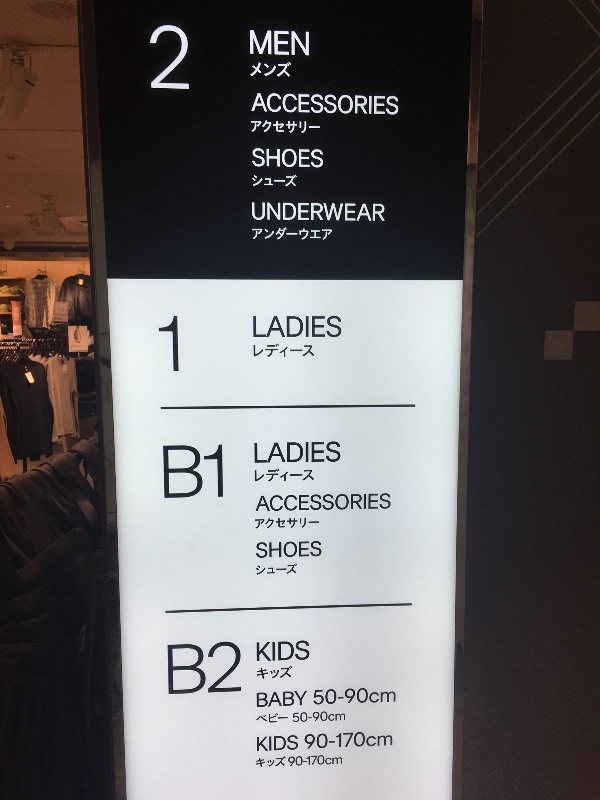text: (161, 25, 176, 91), (177, 25, 190, 91), (161, 316, 176, 373), (225, 643, 241, 696), (177, 445, 192, 499), (193, 445, 208, 499), (209, 445, 224, 499), (177, 643, 192, 696), (193, 643, 208, 696), (209, 643, 224, 696), (163, 445, 176, 499), (150, 25, 160, 91), (168, 643, 176, 696), (257, 30, 272, 56), (273, 30, 288, 56), (289, 30, 304, 56), (273, 93, 288, 116), (289, 93, 304, 116), (305, 93, 320, 116), (321, 93, 336, 116), (337, 93, 352, 116), (353, 93, 368, 116), (369, 93, 384, 116), (257, 640, 272, 663), (273, 640, 288, 663), (289, 640, 304, 663), (257, 316, 272, 338), (273, 316, 288, 338), (289, 316, 304, 338), (305, 316, 320, 338), (321, 316, 336, 338), (257, 442, 272, 464), (273, 442, 288, 464), (289, 442, 304, 464), (305, 442, 320, 464), (321, 442, 336, 464), (258, 93, 272, 116), (385, 93, 399, 116), (257, 147, 272, 168), (273, 147, 288, 168), (289, 147, 304, 168), (305, 147, 320, 168), (369, 203, 385, 222), (257, 203, 272, 222), (273, 203, 288, 222), (289, 203, 304, 222), (305, 203, 320, 222), (321, 203, 336, 222), (337, 203, 352, 222), (353, 203, 368, 222), (273, 493, 288, 512), (289, 493, 304, 512), (305, 493, 320, 512), (321, 493, 336, 512), (337, 493, 352, 512), (353, 493, 368, 512), (369, 493, 384, 512), (321, 687, 336, 706), (337, 687, 352, 706), (353, 687, 368, 706), (369, 687, 384, 706), (257, 541, 272, 559), (273, 541, 288, 559), (289, 541, 304, 559), (305, 541, 320, 559), (305, 731, 320, 749), (321, 731, 336, 749), (337, 731, 352, 749), (353, 731, 368, 749), (369, 731, 384, 749), (257, 691, 272, 708), (273, 691, 288, 708), (289, 691, 304, 708), (257, 735, 272, 752), (273, 735, 288, 752), (257, 62, 272, 78), (273, 62, 288, 78), (305, 120, 321, 134), (257, 120, 272, 134), (273, 120, 288, 134), (289, 120, 304, 134), (257, 666, 272, 680), (273, 666, 288, 680), (257, 468, 272, 482), (273, 468, 288, 482), (289, 468, 304, 482), (385, 687, 396, 706), (257, 227, 272, 240), (273, 227, 288, 240), (289, 227, 304, 240), (305, 227, 320, 240), (257, 175, 272, 188), (273, 175, 288, 188), (305, 710, 320, 723), (321, 710, 336, 723), (257, 344, 272, 357), (273, 344, 288, 357), (289, 344, 304, 357), (262, 493, 272, 512), (257, 757, 272, 769), (289, 755, 304, 767), (305, 755, 320, 767), (321, 755, 336, 767), (257, 713, 272, 725), (273, 713, 288, 725), (257, 517, 272, 529), (273, 517, 288, 529), (289, 517, 304, 529), (305, 517, 320, 529), (177, 316, 180, 373), (257, 564, 272, 575), (273, 564, 288, 575), (250, 30, 256, 56), (321, 227, 333, 240), (273, 757, 286, 769), (289, 735, 298, 752), (385, 731, 393, 749), (293, 710, 304, 723), (305, 344, 315, 357), (305, 468, 314, 482), (305, 640, 310, 663), (385, 493, 391, 512), (314, 687, 320, 706), (337, 316, 342, 338), (305, 30, 309, 56), (289, 175, 297, 188), (337, 710, 345, 723), (289, 564, 298, 575), (337, 442, 341, 464), (251, 62, 256, 78), (252, 203, 256, 222), (251, 120, 256, 134), (253, 147, 256, 168), (321, 147, 324, 168), (337, 755, 342, 767), (159, 316, 160, 373), (289, 666, 293, 680), (252, 227, 256, 240), (252, 175, 256, 188), (289, 62, 292, 78), (254, 316, 256, 338), (305, 691, 307, 708), (254, 344, 256, 357), (255, 442, 256, 464), (321, 541, 322, 559), (255, 468, 256, 482), (255, 517, 256, 529)
